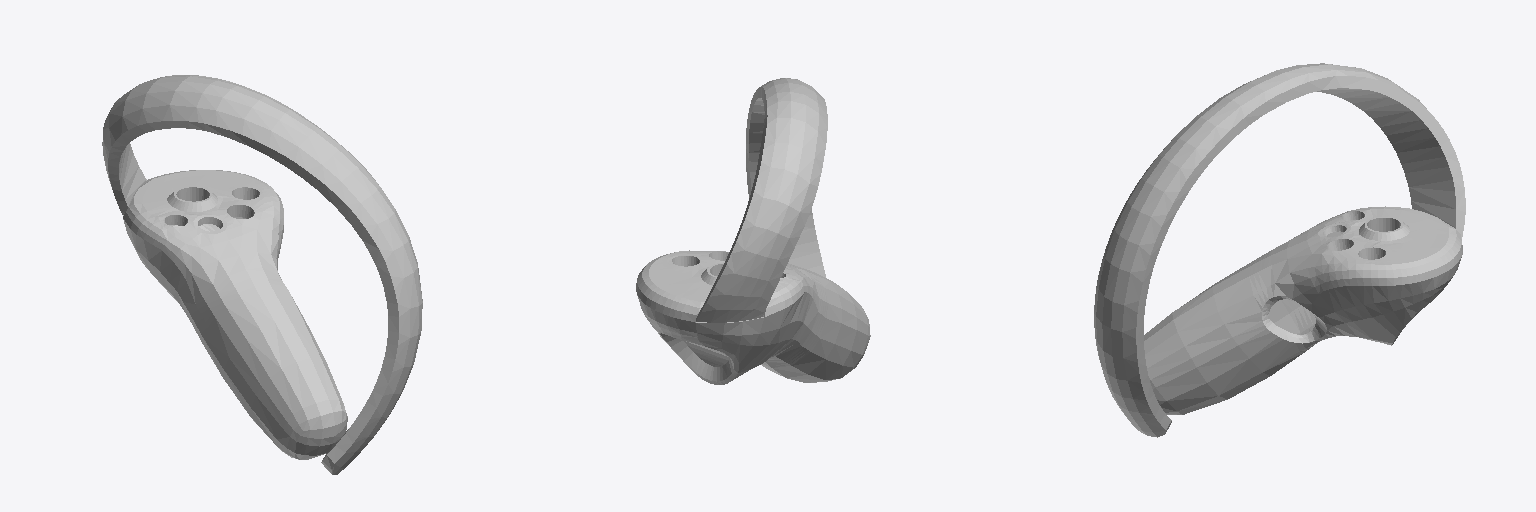
The model's file is LBody.obj.
The picture shows the model from 3 angles: view 1: azimuth 30°, elevation 25°; view 2: azimuth 150°, elevation 25°; view 3: azimuth 270°, elevation 25°; orthographic projection.
Visible parts, largest first — view 1: P_Controller_L:LBody; view 2: P_Controller_L:LBody; view 3: P_Controller_L:LBody.
Part boxes in pixels (left/top/right/bottom): P_Controller_L:LBody: left=102, top=75, right=422, bottom=474; P_Controller_L:LBody: left=636, top=78, right=870, bottom=384; P_Controller_L:LBody: left=1094, top=63, right=1465, bottom=437.
Bounding box in the file's own units: 0.0744 × 0.1341 × 0.1315.